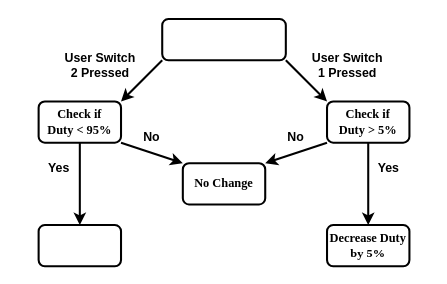
This 447x284 diagram has some shape labels left out. The shapes that lost their labels are listed below. From the top down, each one's box as (x1, y1, x2, y2) in pixels, then its label:
(161, 18, 286, 61): Ready Initial Duty = 50%
(37, 224, 122, 267): Increase Duty by 5%
